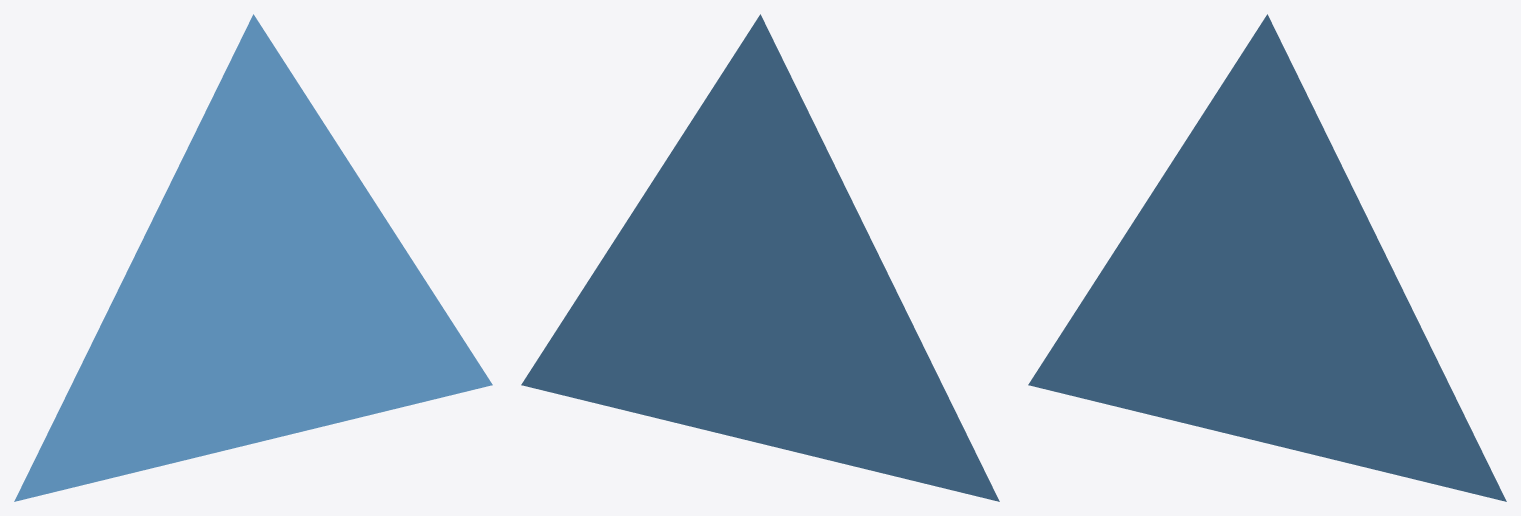
The model's file is hero.glb.
3 views of the same model, side by side, from view 1: azimuth 30°, elevation 25°; view 2: azimuth 150°, elevation 25°; view 3: azimuth 330°, elevation 25° (orthographic).
Parts seen in each view (by area): view 1: Hero; view 2: Hero; view 3: Hero.
Part boxes in pixels (x1,y1,x2,y2): Hero: [14, 14, 492, 501]; Hero: [521, 14, 999, 501]; Hero: [1028, 14, 1506, 501].
Size of the model in its own units: 1.4 by 1.2 by 0.
